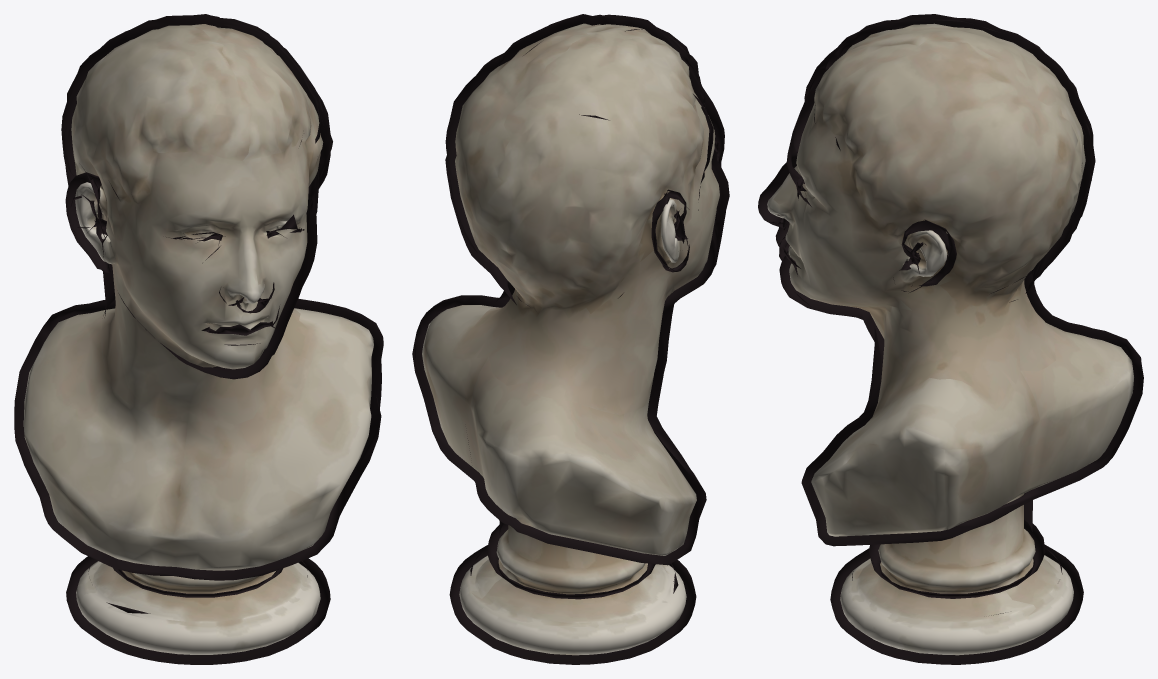
File: SM_Int_Bust.fbx
The picture shows the model from 3 angles, left to right: view 1: azimuth 30°, elevation 25°; view 2: azimuth 150°, elevation 25°; view 3: azimuth 270°, elevation 25°; orthographic projection. The views are drawn at different scales.
Parts seen in each view (by area): view 1: SM_Int_Bust; view 2: SM_Int_Bust; view 3: SM_Int_Bust.
Boxes of the visible parts, x1=… form: SM_Int_Bust: x1=14, y1=14, x2=383, y2=664; SM_Int_Bust: x1=412, y1=14, x2=729, y2=664; SM_Int_Bust: x1=758, y1=14, x2=1143, y2=664.
Size of what is drawn, in the model's own units: 0.2877 by 0.5303 by 0.3153.
